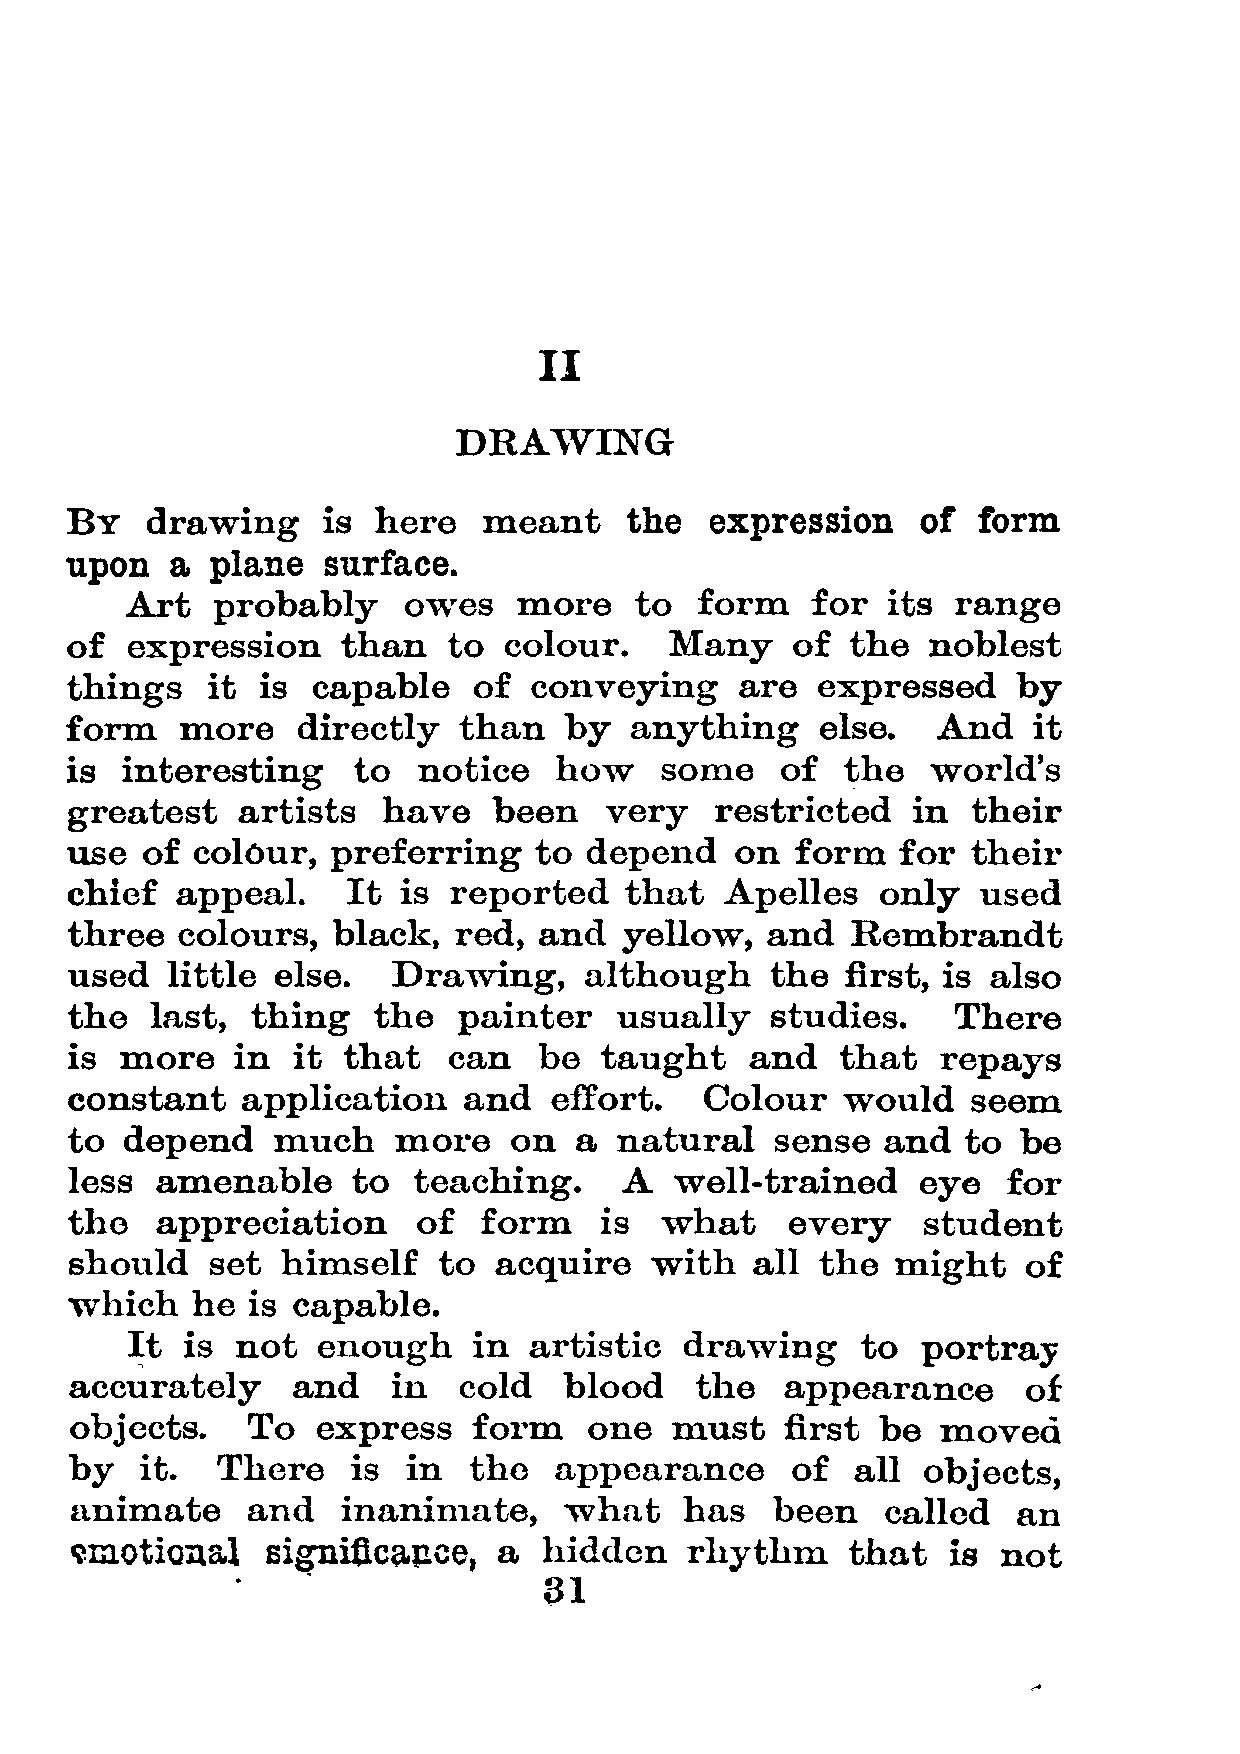chapter: (452, 348, 672, 460)
content: (63, 503, 1064, 1571)
content_pagenumber: (542, 1571, 586, 1608)
